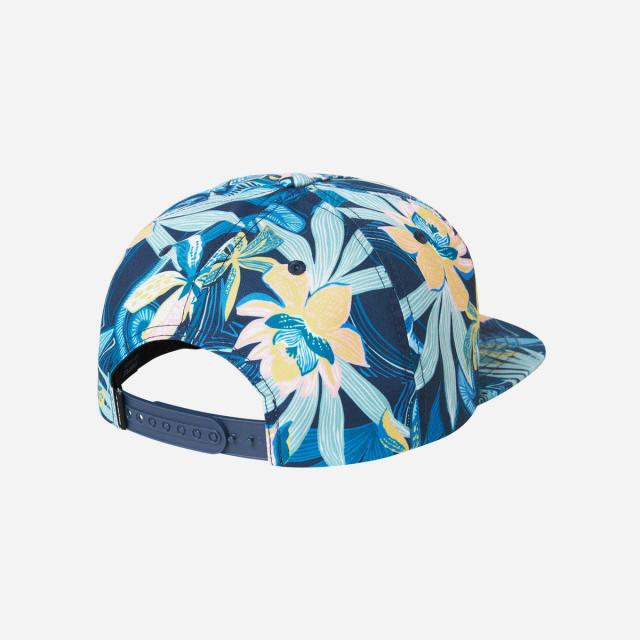Nonhelmet: (94, 170, 547, 469)
